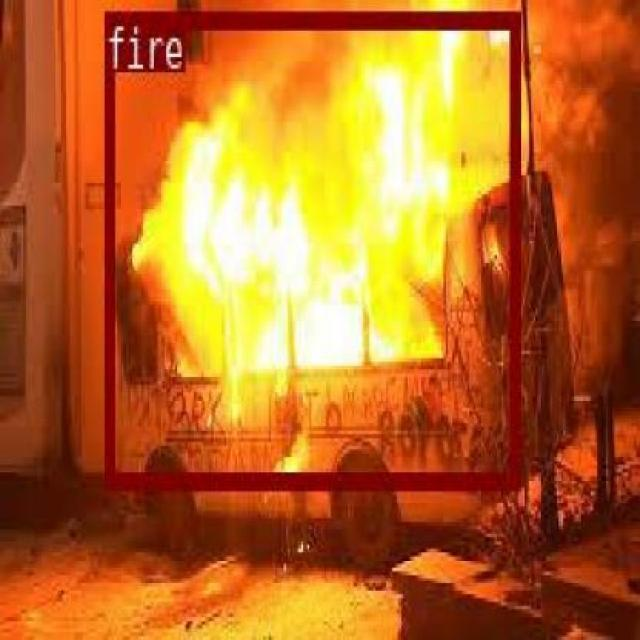Fire: (311, 248, 414, 477)
